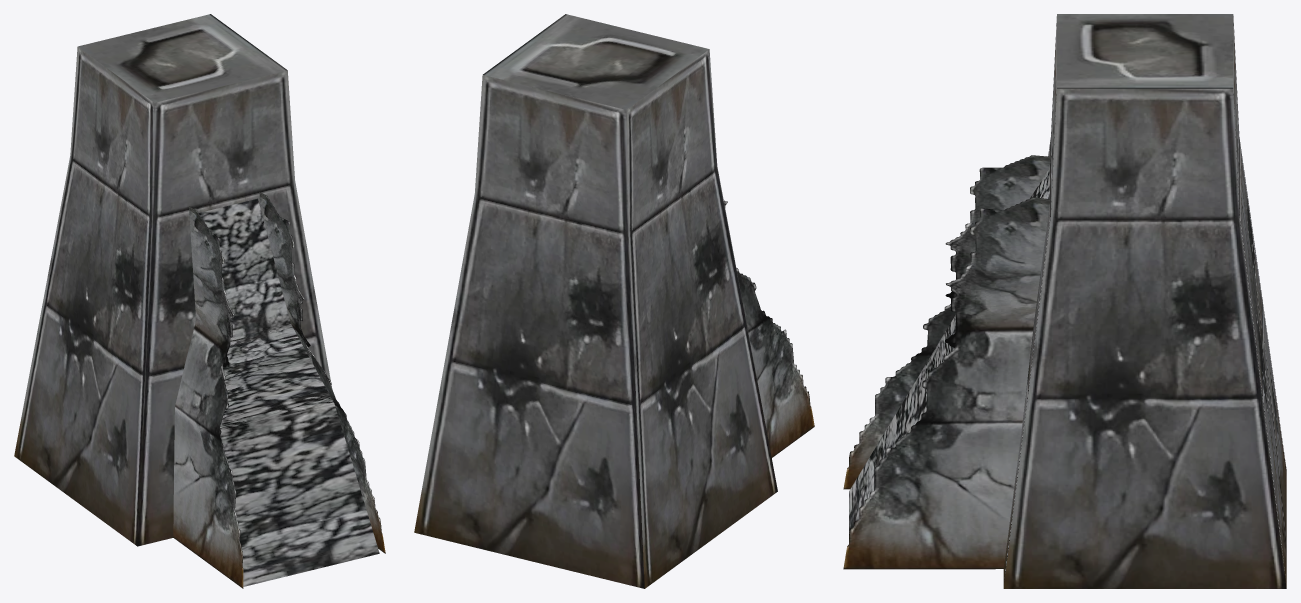
File: s_mediumwall_dam_hdtex.glb
3 renders of one model, left to right at view 1: azimuth 30°, elevation 25°; view 2: azimuth 150°, elevation 25°; view 3: azimuth 270°, elevation 25°, orthographic. The views are drawn at different scales.
Visible parts, largest first — view 1: S_MediumWallDAM; view 2: S_MediumWallDAM; view 3: S_MediumWallDAM.
Boxes of the visible parts, bbox=[...] form: S_MediumWallDAM: bbox=[14, 14, 385, 588]; S_MediumWallDAM: bbox=[414, 14, 814, 588]; S_MediumWallDAM: bbox=[843, 14, 1286, 588].
Bounding box in the file's own units: 6 × 11.2 × 9.4.
Materials: 1 (1 with a texture image).
